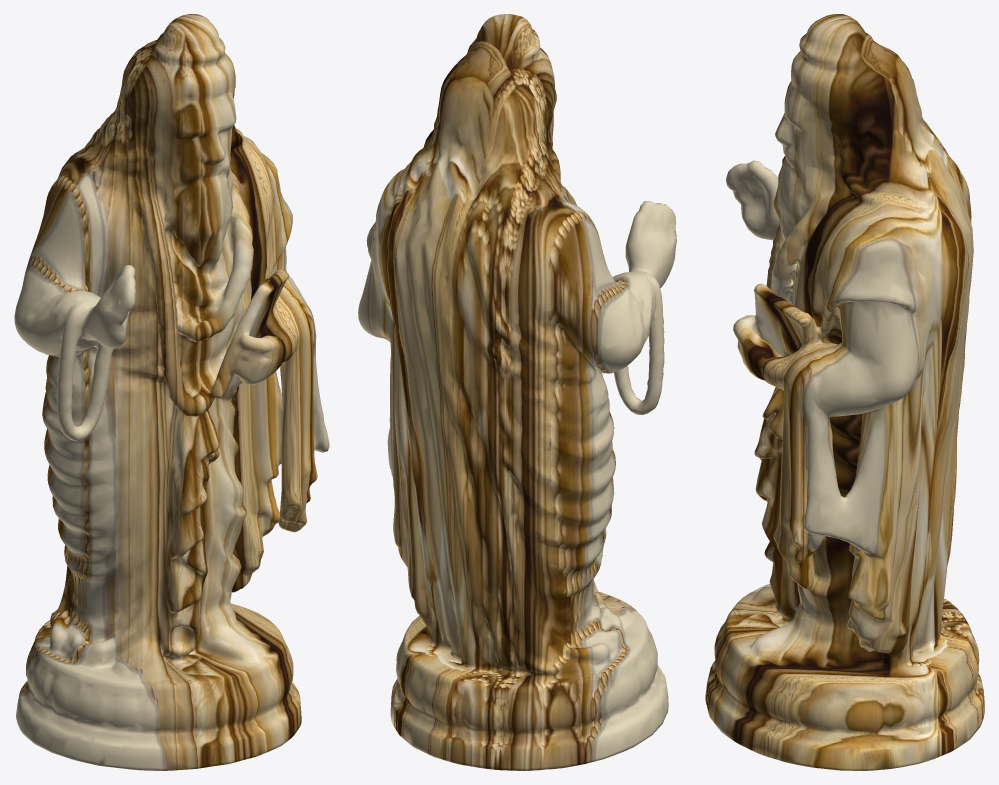
Rendered from mantri.glb.
3 views of the same model, side by side, from view 1: azimuth 30°, elevation 25°; view 2: azimuth 150°, elevation 25°; view 3: azimuth 270°, elevation 25° (orthographic). The views are drawn at different scales.
Parts seen in each view (by area): view 1: geometry_0; view 2: geometry_0; view 3: geometry_0.
Boxes of the visible parts, <box> form: geometry_0: <box>14,14,329,770</box>; geometry_0: <box>358,14,676,770</box>; geometry_0: <box>705,14,984,770</box>.
Size of the model in its own units: 0.8184 by 1.98 by 0.7077.
Materials: 1 (1 with a texture image).
